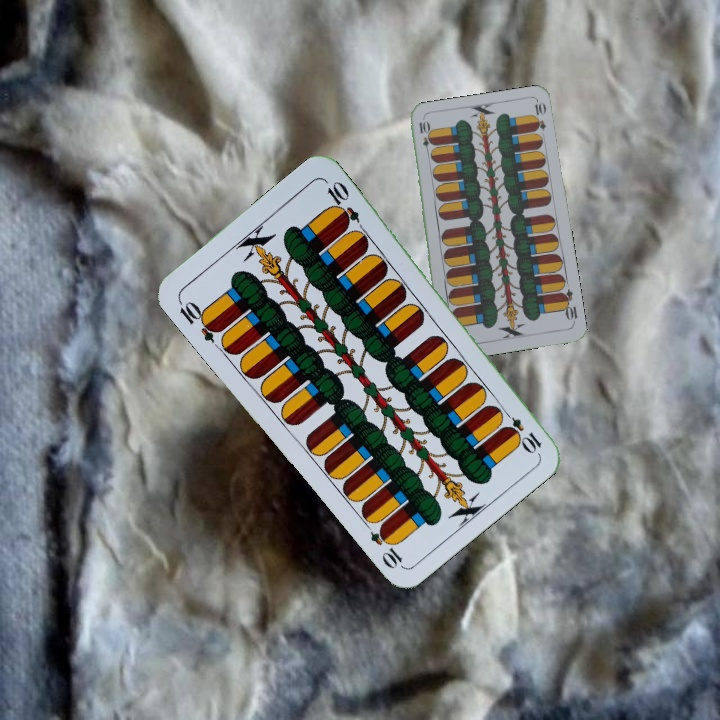E10: (174, 295, 224, 345), (497, 405, 544, 456), (557, 286, 581, 326), (415, 117, 433, 158)
